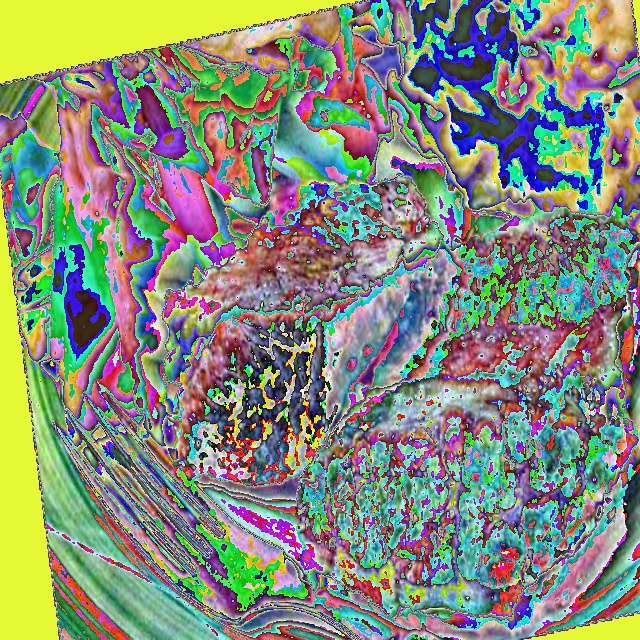background: (0, 0, 640, 635)
